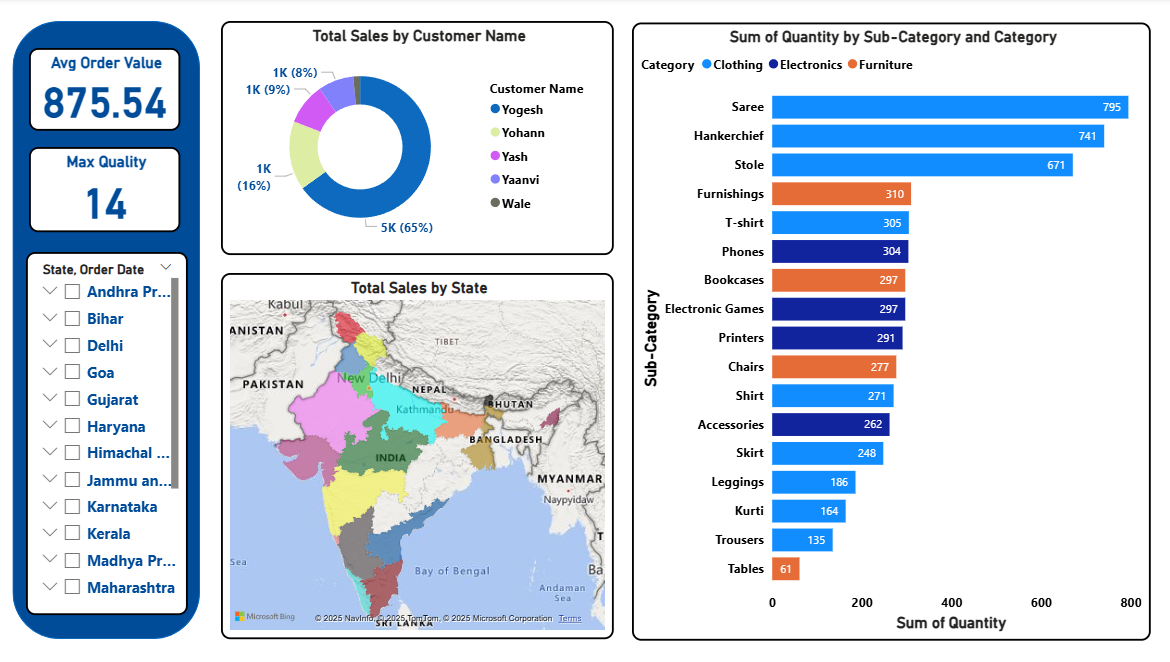

What the dashboard file says about the page in this screenshot:
{"tool":"powerbi","page":{"name":"Customer & Region Analysis Dashboard","canvas":[1280,720],"ordinal":1},"visuals":[{"type":"shape","box":[24.3,25.9,202.4,667.1],"z":500},{"type":"filledMap","fields":{"Category":["Orders_Table.State"]},"box":[249.4,297.9,424.2,395.1],"z":1000},{"type":"donutChart","title":"Total Sales by Customer Name","fields":{"Category":["Orders_Table.CustomerName"],"Y":["Details_Table.Total Sales"]},"box":[249.4,25.9,424.2,252.6],"z":2000},{"type":"barChart","fields":{"Category":["Details_Table.Sub-Category"],"Y":["Details_Table.Quantity"],"Series":["Details_Table.Category"]},"box":[693,27.5,560.3,667.1],"z":3000},{"type":"card","title":"Max Quality","fields":{"Values":["Details_Table.Max Quantity"]},"box":[42.1,161.9,163.5,92.3],"z":4000},{"type":"slicer","fields":{"Values":["Orders_Table.State","Orders_Table.Order Date"]},"box":[38.9,275.3,174.9,391.9],"z":5000},{"type":"card","title":"Avg Order Value","fields":{"Values":["Orders_Table.Avg Order Value"]},"box":[42.1,55.1,163.5,89.1],"z":6000}]}

Visuals, with their boxes in screenshot pixels (x1, y1, x2, y2), scaled from the page's 1280x720 canvas onto the 1170x662 screenshot:
shape: region(22, 24, 207, 637)
filledMap - Orders_Table.State: region(228, 274, 616, 637)
"Total Sales by Customer Name" donutChart: region(228, 24, 616, 256)
barChart - Details_Table.Sub-Category x Details_Table.Quantity: region(633, 25, 1146, 639)
"Max Quality" card: region(38, 149, 188, 234)
slicer - Orders_Table.State x Orders_Table.Order Date: region(36, 253, 195, 613)
"Avg Order Value" card: region(38, 51, 188, 133)
